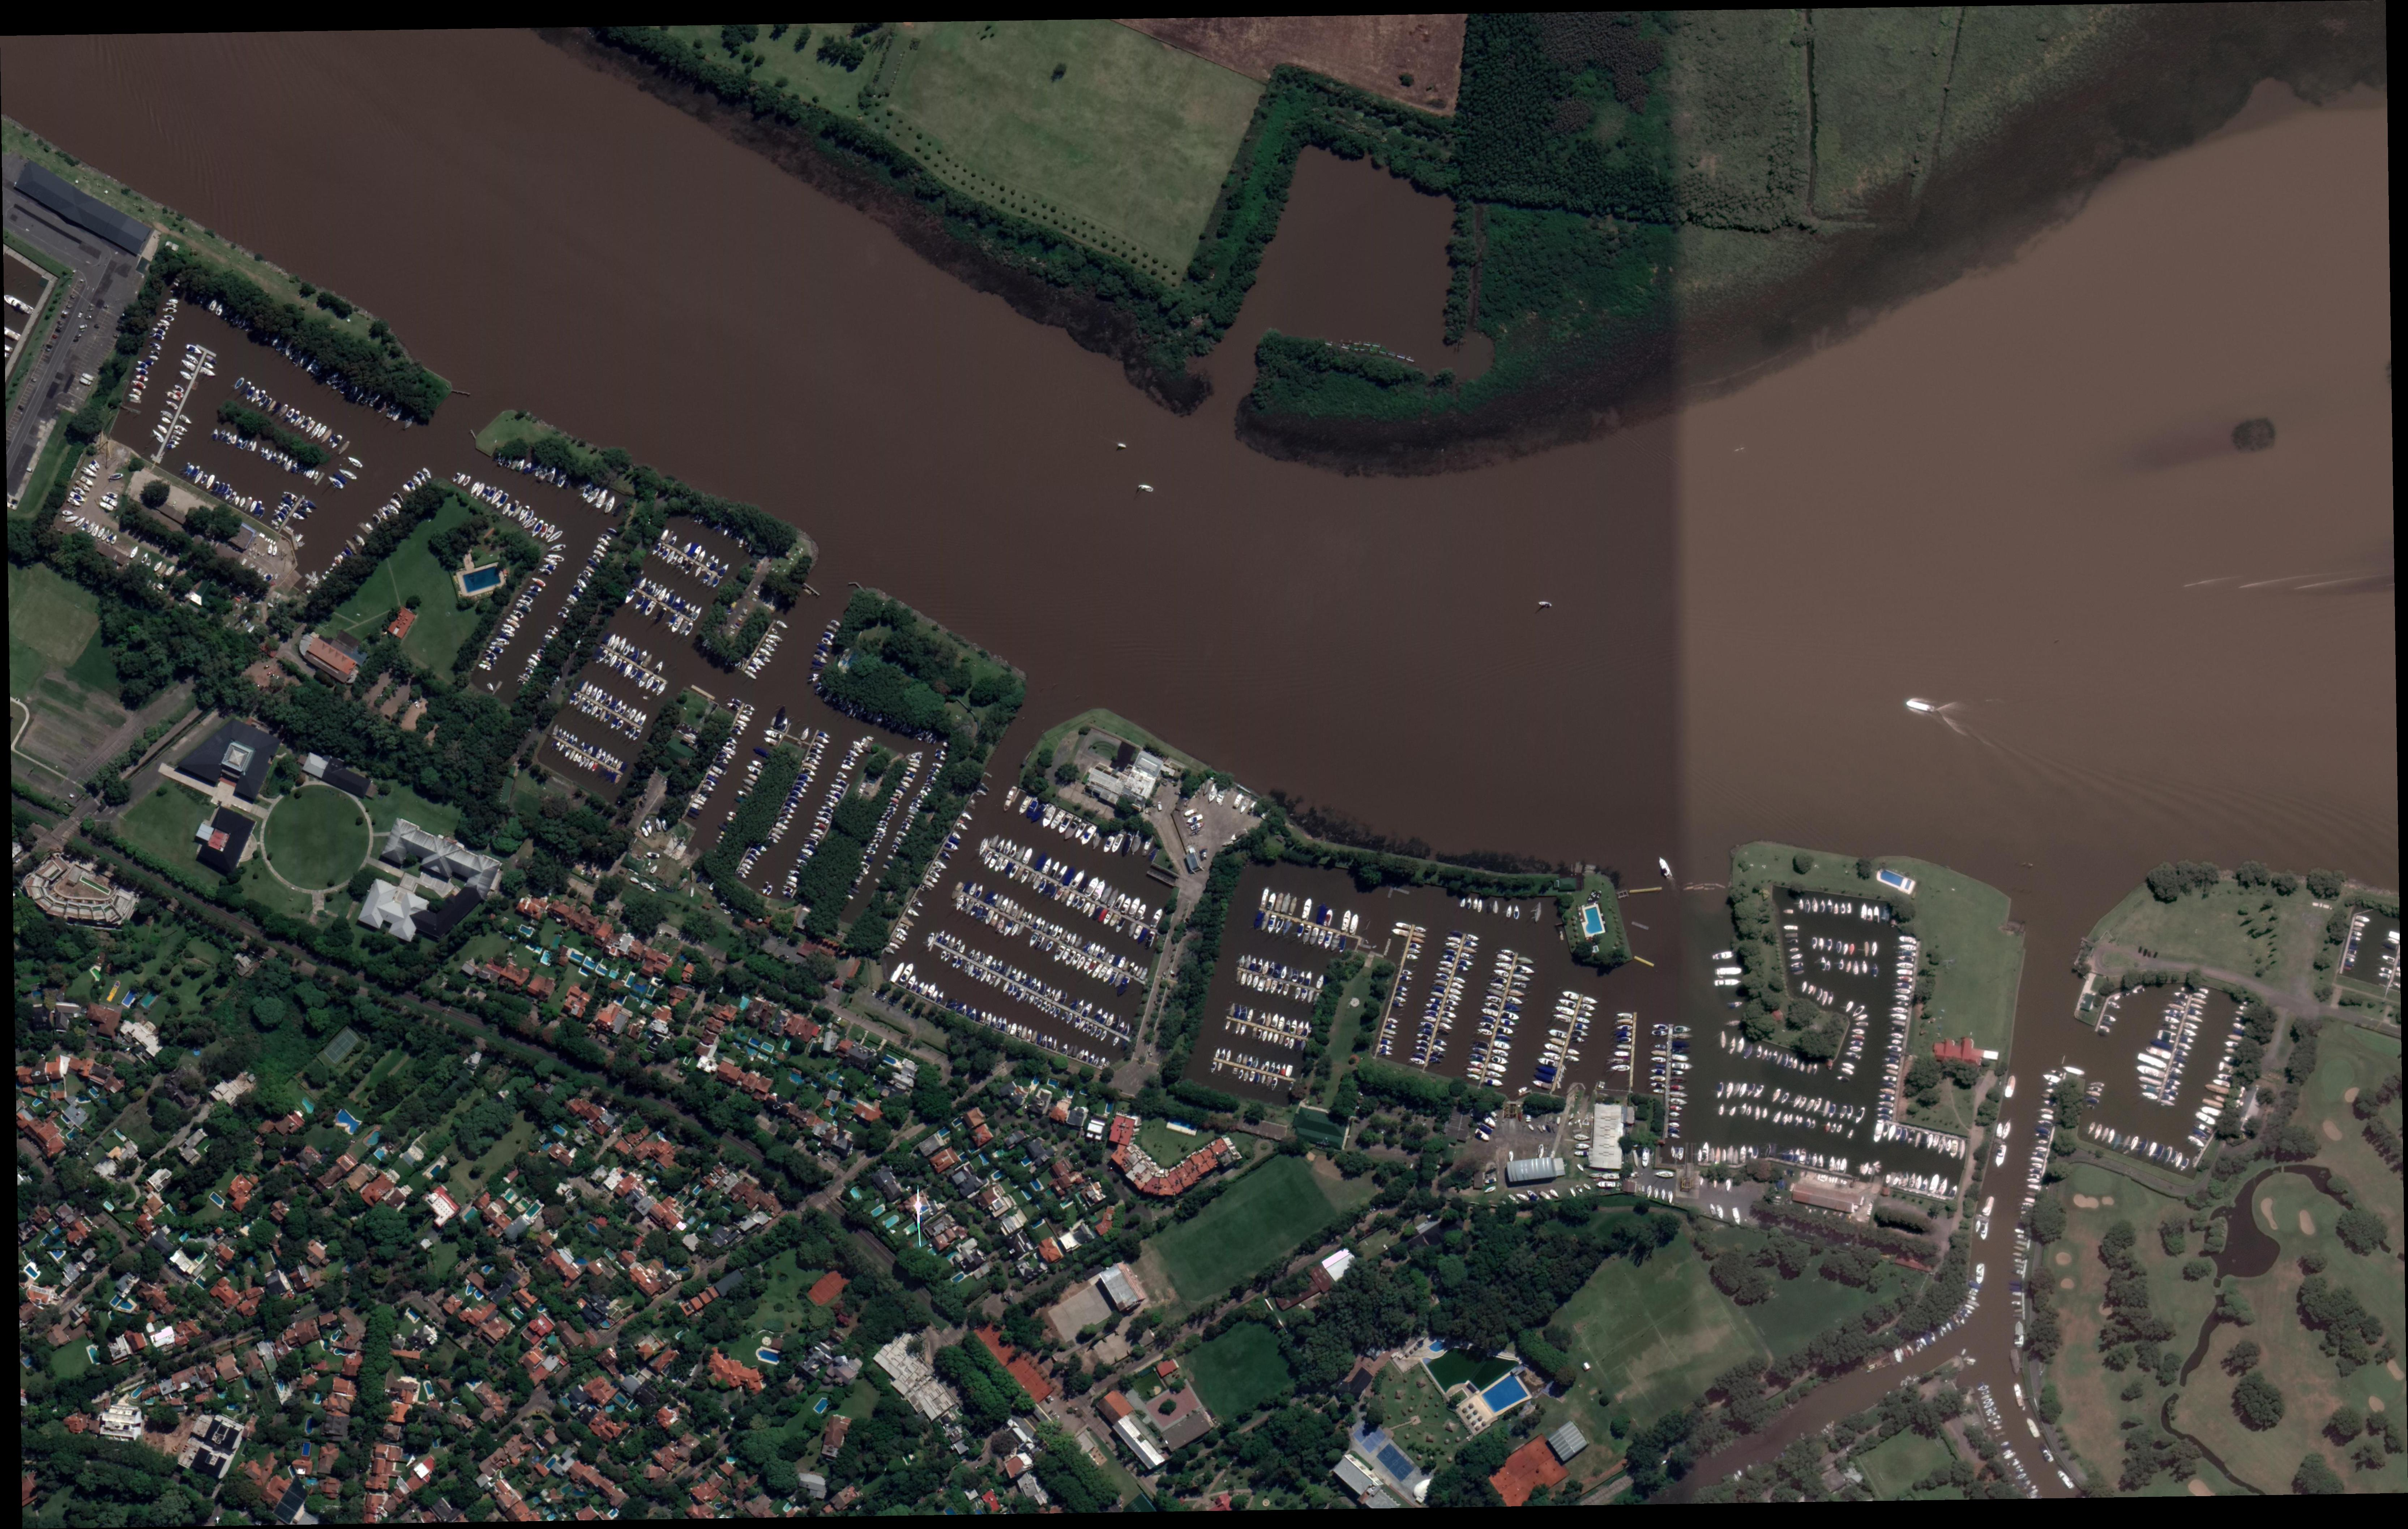harbor: (923, 923, 1143, 1057), (942, 872, 1158, 1008), (971, 827, 1172, 955), (1458, 944, 1539, 1094), (667, 695, 758, 827), (135, 339, 223, 474), (1406, 927, 1483, 1076), (1364, 922, 1430, 1060), (1250, 883, 1371, 958), (1527, 988, 1601, 1099), (563, 674, 653, 746), (590, 627, 677, 699), (648, 521, 734, 592), (621, 571, 706, 641), (542, 721, 630, 788), (1232, 951, 1330, 1009), (1648, 1022, 1694, 1141), (1223, 999, 1315, 1055), (1209, 1046, 1306, 1099), (732, 613, 790, 683), (265, 486, 321, 542), (1601, 1011, 1638, 1092), (483, 676, 505, 699)
ship: (2, 291, 35, 316), (2136, 1050, 2169, 1073), (2134, 1062, 2166, 1080), (1062, 816, 1083, 843), (2203, 1081, 2236, 1097), (1002, 785, 1020, 815), (1028, 802, 1050, 827), (888, 958, 907, 985), (2194, 1109, 2220, 1129), (1083, 872, 1102, 899), (1904, 699, 1936, 714), (2145, 1044, 2173, 1062), (1129, 829, 1146, 857), (1120, 830, 1137, 858), (2055, 1468, 2076, 1490), (2036, 1439, 2055, 1464), (1069, 865, 1088, 890), (1090, 878, 1109, 902), (1041, 804, 1058, 830), (1657, 853, 1674, 879), (772, 702, 788, 730), (2199, 1104, 2227, 1120), (2003, 1073, 2018, 1101), (1994, 1141, 2010, 1169), (305, 356, 326, 377), (591, 486, 611, 509), (1114, 974, 1132, 999), (899, 960, 916, 985), (579, 477, 597, 502), (2159, 1143, 2176, 1167), (2192, 1118, 2217, 1136), (2024, 1415, 2041, 1439), (1016, 793, 1034, 818), (1099, 881, 1116, 906), (1050, 808, 1067, 832), (2201, 1095, 2227, 1111), (2148, 1037, 2175, 1053), (546, 527, 567, 546), (584, 485, 604, 506), (948, 879, 965, 902), (602, 493, 620, 516), (751, 743, 774, 760), (2134, 1136, 2152, 1159), (1982, 1194, 1999, 1217), (1079, 825, 1097, 848), (1057, 813, 1074, 836), (1150, 906, 1165, 930), (609, 499, 628, 518), (651, 606, 669, 627), (2060, 1064, 2087, 1078), (1032, 850, 1050, 871), (1873, 1118, 1887, 1145), (1111, 890, 1129, 911), (976, 836, 992, 858), (337, 467, 360, 483), (309, 420, 325, 442), (1511, 971, 1534, 987), (1025, 797, 1041, 820), (1062, 864, 1078, 887), (1106, 887, 1122, 909), (1127, 895, 1143, 918), (1109, 832, 1125, 855), (2136, 1074, 2164, 1087), (1927, 1171, 1941, 1195), (2001, 1116, 2015, 1141), (2008, 1346, 2020, 1375), (1258, 885, 1272, 909), (1301, 897, 1315, 922), (1315, 901, 1329, 925), (1339, 908, 1353, 932), (1141, 834, 1155, 858), (1536, 1055, 1560, 1069), (1532, 1071, 1557, 1085), (390, 404, 407, 423), (326, 474, 346, 492), (179, 356, 198, 374), (337, 377, 355, 397), (484, 483, 500, 504), (490, 486, 505, 507), (495, 490, 511, 511), (505, 499, 521, 520), (521, 507, 537, 528), (530, 518, 546, 539), (555, 469, 570, 490), (690, 602, 706, 623), (1936, 1174, 1952, 1195), (1515, 962, 1536, 978), (1229, 827, 1250, 843), (1118, 895, 1134, 916), (1134, 901, 1150, 922), (1072, 820, 1088, 841), (2013, 1382, 2025, 1408), (518, 502, 532, 525), (762, 727, 785, 741), (2041, 1071, 2064, 1085), (2152, 1141, 2166, 1164), (1272, 890, 1286, 913), (1279, 892, 1294, 915), (1348, 913, 1362, 936), (1546, 1027, 1569, 1041), (330, 374, 348, 391), (1481, 1113, 1499, 1131), (1000, 920, 1016, 939), (344, 537, 360, 556), (346, 455, 365, 470), (562, 470, 577, 490), (535, 463, 551, 483), (100, 493, 119, 509), (163, 388, 183, 404), (74, 477, 93, 493), (337, 437, 353, 456), (330, 432, 346, 451), (281, 406, 297, 425), (298, 413, 314, 432), (319, 427, 335, 446), (744, 762, 763, 778), (614, 634, 630, 653), (1013, 843, 1028, 862), (1473, 1127, 1492, 1143), (1027, 930, 1041, 951), (1143, 930, 1157, 951), (242, 493, 256, 514), (670, 614, 684, 635), (2190, 1127, 2211, 1141), (1501, 1009, 1522, 1023), (1487, 1060, 1508, 1074), (1483, 1076, 1504, 1090), (1206, 783, 1220, 804), (1215, 785, 1229, 806), (1050, 858, 1064, 879), (1078, 874, 1092, 895), (1102, 834, 1116, 855), (1090, 830, 1104, 851), (1265, 915, 1279, 936), (1251, 909, 1265, 930), (1853, 1104, 1867, 1125), (1543, 1041, 1564, 1055), (1560, 988, 1581, 1002), (1604, 1055, 1632, 1066), (2211, 1078, 2234, 1090), (2138, 1081, 2161, 1094), (1948, 1138, 1960, 1160), (1302, 923, 1315, 946), (1897, 934, 1920, 946), (1536, 1064, 1559, 1076), (1553, 1004, 1576, 1016), (1530, 1078, 1553, 1090), (1090, 962, 1106, 980), (521, 516, 539, 532), (279, 493, 297, 509), (332, 470, 349, 486), (239, 379, 254, 397), (260, 395, 276, 413), (276, 402, 291, 420), (288, 407, 304, 425), (291, 413, 307, 430), (756, 644, 774, 660), (755, 650, 772, 665), (741, 774, 758, 790), (642, 600, 658, 618), (716, 560, 732, 578), (635, 672, 651, 690), (358, 390, 374, 407), (1230, 792, 1246, 809), (1715, 978, 1741, 988), (1064, 950, 1078, 969), (1053, 944, 1067, 964), (1032, 934, 1046, 953), (983, 887, 997, 906), (1074, 953, 1088, 973), (1081, 999, 1095, 1018), (1107, 969, 1122, 988), (1100, 967, 1114, 987), (1136, 927, 1150, 946), (925, 980, 939, 999), (402, 413, 416, 432), (532, 460, 546, 479), (514, 600, 534, 614), (504, 616, 523, 630), (97, 499, 116, 513), (184, 342, 204, 356), (130, 377, 149, 391), (79, 465, 98, 479), (68, 490, 88, 504), (198, 365, 218, 379), (797, 771, 816, 785), (734, 786, 753, 800), (635, 648, 649, 667), (690, 542, 704, 562), (1021, 846, 1036, 865), (2110, 1132, 2124, 1152), (2187, 1134, 2206, 1148), (2231, 1020, 2250, 1034), (2185, 1013, 2204, 1027), (1885, 1123, 1899, 1143), (1506, 994, 1525, 1008), (1502, 1001, 1522, 1015), (1200, 778, 1215, 797), (1322, 908, 1336, 927), (1308, 927, 1322, 946), (1041, 857, 1055, 876), (1055, 864, 1069, 883), (1715, 967, 1745, 976), (546, 463, 558, 485), (2210, 1092, 2231, 1104), (2217, 1071, 2238, 1083), (2222, 1053, 2243, 1066), (1936, 1134, 1948, 1155), (1957, 1138, 1967, 1162), (1899, 1127, 1911, 1148), (1390, 927, 1411, 939), (1487, 980, 1508, 992), (1492, 1039, 1513, 1052), (1490, 1053, 1511, 1066), (1286, 895, 1299, 916), (1322, 930, 1334, 951), (1258, 913, 1271, 934), (1811, 1094, 1824, 1115), (1713, 950, 1738, 960), (1541, 1050, 1562, 1062), (1552, 1011, 1573, 1023), (1557, 997, 1578, 1009), (353, 532, 369, 548), (651, 583, 667, 599), (707, 556, 723, 572), (325, 370, 340, 386), (374, 398, 390, 414), (1852, 1002, 1867, 1018), (1525, 1187, 1541, 1202), (676, 876, 690, 894), (823, 792, 841, 806), (983, 909, 997, 927), (993, 916, 1007, 934), (972, 881, 986, 899), (1085, 958, 1099, 976), (1104, 1011, 1118, 1029), (1097, 964, 1111, 981), (1095, 908, 1109, 925), (1090, 904, 1104, 922), (1030, 874, 1044, 892), (1013, 865, 1027, 883), (986, 853, 1000, 871), (988, 832, 1002, 850), (934, 988, 948, 1006), (944, 839, 962, 853), (521, 458, 535, 476), (595, 535, 613, 549), (530, 574, 548, 588), (154, 562, 168, 579), (183, 351, 200, 365), (70, 485, 88, 499), (65, 495, 82, 509), (151, 427, 165, 444), (177, 413, 195, 427), (212, 300, 226, 318), (269, 400, 283, 418), (304, 418, 318, 435), (316, 423, 330, 441), (762, 734, 779, 748), (753, 841, 770, 855), (800, 765, 818, 779), (806, 755, 823, 769), (749, 757, 767, 771), (814, 646, 832, 660), (813, 651, 830, 665), (670, 593, 684, 611), (684, 600, 699, 618), (665, 613, 679, 630), (637, 597, 651, 614), (641, 651, 655, 669), (686, 541, 700, 558), (704, 553, 718, 571), (597, 648, 611, 665), (620, 662, 634, 679), (2127, 1134, 2141, 1152), (2182, 1027, 2199, 1041), (2015, 1320, 2024, 1348), (298, 351, 312, 369), (346, 384, 360, 402), (367, 391, 381, 409), (1265, 892, 1279, 909), (1741, 1043, 1755, 1060), (1752, 1083, 1766, 1101), (1976, 1262, 1987, 1285), (1532, 901, 1543, 923), (1725, 1143, 1736, 1166), (1739, 1141, 1750, 1164), (1081, 955, 1093, 974), (1113, 971, 1125, 990), (1114, 916, 1127, 936), (993, 855, 1006, 874), (1002, 837, 1014, 857), (205, 472, 218, 492), (300, 499, 319, 511), (544, 521, 556, 541), (548, 542, 567, 555), (253, 499, 265, 518), (2085, 1118, 2097, 1138), (2094, 1122, 2106, 1141), (2146, 1139, 2159, 1159), (2161, 1020, 2180, 1032), (2380, 939, 2399, 951), (291, 348, 304, 367), (1485, 987, 1504, 999), (1490, 974, 1509, 987), (1492, 967, 1511, 980), (1494, 960, 1513, 973), (1495, 951, 1515, 964), (1516, 955, 1536, 967), (1499, 1016, 1518, 1029), (1495, 1032, 1515, 1044), (1185, 813, 1204, 825), (1330, 934, 1343, 953), (1316, 929, 1329, 948), (1281, 918, 1294, 937), (1274, 916, 1286, 936), (1260, 957, 1272, 976), (1843, 1050, 1862, 1062), (1571, 1027, 1590, 1039), (1731, 1208, 1743, 1227), (1731, 1080, 1743, 1099), (962, 878, 976, 894), (1057, 990, 1071, 1006), (1097, 1009, 1111, 1025), (1079, 901, 1093, 916), (390, 490, 405, 504), (414, 469, 428, 485), (479, 485, 493, 500), (283, 490, 298, 504), (298, 502, 314, 516), (272, 507, 288, 521), (584, 555, 600, 569), (576, 571, 591, 585), (511, 607, 527, 621), (179, 369, 195, 383), (160, 407, 176, 421), (74, 514, 88, 530), (79, 474, 95, 488), (277, 453, 291, 469), (232, 376, 246, 391), (254, 388, 269, 404), (256, 393, 270, 409), (265, 398, 279, 414), (721, 743, 737, 757), (716, 753, 732, 767), (713, 758, 728, 772), (742, 667, 758, 681), (762, 641, 778, 655), (751, 655, 767, 669), (655, 586, 669, 602), (677, 620, 692, 635), (658, 527, 672, 542), (591, 646, 606, 662), (627, 665, 641, 681), (655, 683, 669, 699), (1980, 1220, 1990, 1241), (1967, 1278, 1983, 1292), (284, 341, 298, 356), (1474, 1027, 1495, 1037), (814, 813, 832, 825), (816, 809, 834, 822), (828, 781, 846, 793), (964, 899, 976, 916), (993, 892, 1006, 909), (999, 895, 1011, 913), (1018, 969, 1030, 987), (1074, 997, 1086, 1015), (1093, 1006, 1106, 1023), (1111, 1013, 1123, 1030), (1004, 897, 1016, 915), (1065, 892, 1078, 909), (1060, 888, 1072, 906), (1048, 883, 1060, 901), (1037, 878, 1050, 895), (1007, 864, 1020, 881), (981, 850, 993, 867), (995, 836, 1007, 853), (1086, 939, 1099, 957), (906, 973, 918, 990), (935, 927, 948, 944), (793, 857, 811, 869), (377, 506, 390, 523), (219, 481, 232, 499), (469, 479, 481, 497), (474, 481, 486, 499), (193, 469, 205, 486), (537, 565, 555, 578), (500, 621, 518, 634), (498, 627, 516, 639), (493, 635, 511, 648), (105, 528, 118, 546), (226, 488, 239, 506), (147, 330, 165, 342), (133, 365, 151, 377), (283, 456, 295, 474), (207, 297, 219, 314), (244, 384, 256, 402), (249, 388, 262, 406), (716, 748, 734, 760), (778, 714, 790, 732), (802, 760, 820, 772), (790, 788, 807, 800), (746, 771, 763, 783), (814, 641, 832, 653), (814, 734, 832, 746), (683, 621, 695, 639), (634, 593, 646, 611), (625, 588, 637, 606), (653, 658, 665, 676), (606, 632, 618, 650), (663, 528, 676, 546), (697, 546, 709, 564), (649, 678, 662, 695), (604, 692, 616, 709), (579, 678, 591, 695), (2099, 1125, 2111, 1143), (2178, 1155, 2190, 1173), (2031, 1148, 2048, 1160), (242, 318, 254, 335), (2183, 1020, 2201, 1032), (1892, 1346, 1904, 1364), (1246, 799, 1258, 816), (1418, 1018, 1436, 1030), (1437, 958, 1455, 971), (1508, 987, 1525, 999), (1497, 1023, 1515, 1036), (1446, 992, 1464, 1004), (1430, 1043, 1448, 1055), (1471, 1044, 1488, 1057), (1239, 797, 1251, 815), (1295, 1018, 1308, 1036), (1301, 1020, 1313, 1037), (1315, 973, 1327, 990), (1771, 1087, 1783, 1104), (1792, 1092, 1804, 1109), (1745, 1081, 1757, 1099), (1671, 1062, 1695, 1071), (539, 521, 549, 541), (546, 553, 565, 564), (151, 327, 170, 337), (2039, 1092, 2059, 1102), (2036, 1118, 2055, 1129), (2032, 1131, 2052, 1141), (2032, 1125, 2052, 1136), (2164, 1008, 2183, 1018), (2190, 997, 2210, 1008), (2139, 1090, 2159, 1101), (1918, 1131, 1929, 1150), (1885, 1043, 1904, 1053), (1874, 1106, 1894, 1116), (1888, 1011, 1908, 1022), (1890, 1004, 1910, 1015), (1480, 1008, 1499, 1018), (1509, 980, 1529, 990), (1492, 1048, 1511, 1059), (1485, 1069, 1504, 1080), (1481, 1001, 1501, 1011), (1457, 957, 1476, 967), (1467, 1053, 1487, 1064), (1295, 922, 1306, 941), (1272, 960, 1283, 980), (1727, 1036, 1738, 1055), (1822, 1099, 1832, 1118), (1881, 904, 1892, 923), (1897, 953, 1917, 964), (1892, 992, 1911, 1002), (1548, 1036, 1567, 1046), (1581, 995, 1601, 1006), (1725, 1081, 1736, 1101), (1641, 1146, 1650, 1169), (1702, 1139, 1711, 1162), (828, 786, 842, 800), (386, 502, 400, 516), (411, 474, 425, 488), (569, 586, 583, 600), (484, 648, 498, 662), (163, 564, 177, 578), (165, 398, 179, 413), (749, 658, 763, 672), (825, 621, 839, 635), (1255, 808, 1269, 822), (932, 750, 948, 762), (807, 830, 823, 843), (813, 820, 828, 832), (846, 748, 862, 760), (1060, 948, 1072, 964), (1039, 937, 1051, 953), (969, 902, 981, 918), (1013, 967, 1025, 983), (1069, 995, 1081, 1011), (1116, 1018, 1129, 1034), (1014, 904, 1027, 920), (1102, 911, 1114, 927), (1053, 887, 1065, 902), (1043, 881, 1055, 897), (1109, 913, 1122, 929), (1132, 925, 1144, 941), (1032, 915, 1044, 930), (1050, 923, 1062, 939), (1092, 943, 1104, 958), (1097, 944, 1109, 960), (1134, 964, 1146, 980), (895, 927, 911, 939), (890, 936, 906, 948), (914, 980, 927, 995), (900, 916, 916, 929), (934, 860, 950, 872), (921, 878, 937, 890), (946, 934, 958, 950), (388, 497, 404, 509), (421, 465, 434, 481), (511, 504, 523, 520), (190, 463, 202, 479), (183, 463, 195, 479), (179, 460, 191, 476), (576, 576, 588, 592), (520, 592, 535, 604), (497, 630, 512, 642), (84, 520, 97, 535), (90, 523, 102, 539), (95, 525, 107, 541), (100, 527, 112, 542), (128, 544, 140, 560), (153, 558, 165, 574), (135, 358, 151, 370), (133, 372, 149, 384), (233, 435, 246, 451), (274, 449, 286, 465), (174, 423, 190, 435), (763, 637, 779, 650), (793, 783, 809, 795), (779, 809, 795, 822), (774, 820, 790, 832), (799, 725, 811, 741), (665, 592, 677, 607), (676, 597, 688, 613), (681, 600, 693, 616), (630, 646, 642, 662), (625, 644, 637, 660), (621, 641, 634, 657), (642, 578, 655, 593), (525, 657, 541, 669), (681, 539, 693, 555), (706, 572, 718, 588), (683, 560, 695, 576), (651, 541, 663, 556), (579, 699, 591, 714), (576, 697, 588, 713), (609, 714, 621, 730), (627, 725, 639, 741), (613, 657, 625, 672), (632, 669, 644, 685), (644, 676, 656, 692), (1007, 843, 1020, 858), (2120, 1134, 2132, 1150), (2013, 1238, 2029, 1250), (2103, 1013, 2118, 1025), (2108, 999, 2124, 1011), (237, 316, 249, 332), (2180, 1034, 2196, 1046), (1948, 1183, 1960, 1199), (746, 539, 758, 555), (844, 700, 856, 716), (288, 346, 300, 362), (353, 388, 365, 404), (384, 404, 397, 420), (1409, 1055, 1425, 1067), (1501, 946, 1516, 958), (1429, 1055, 1444, 1067), (1276, 1015, 1288, 1030), (1248, 957, 1260, 973), (1843, 999, 1855, 1015), (1804, 1097, 1817, 1113), (1537, 1188, 1553, 1201), (1815, 1153, 1827, 1169), (802, 836, 820, 846), (1071, 951, 1081, 969), (979, 908, 990, 925), (974, 904, 985, 922), (955, 894, 965, 911), (1086, 902, 1097, 920), (1004, 858, 1014, 876), (1127, 922, 1137, 939), (849, 702, 860, 720), (1009, 1020, 1020, 1037), (1020, 1023, 1030, 1041), (799, 846, 816, 857), (211, 477, 221, 495), (293, 509, 311, 520), (527, 585, 544, 595), (488, 644, 505, 655), (476, 662, 493, 672), (107, 472, 125, 483), (126, 391, 144, 402), (767, 634, 785, 644), (2085, 1088, 2103, 1099), (2106, 1127, 2117, 1145), (2038, 1106, 2055, 1116), (2164, 1015, 2182, 1025), (2173, 990, 2190, 1001), (2224, 1039, 2241, 1050), (2175, 1048, 2192, 1059), (2176, 1041, 2194, 1052), (2194, 985, 2211, 995), (1931, 1134, 1941, 1152), (1901, 1169, 1911, 1187), (1908, 1171, 1918, 1188), (1913, 1173, 1924, 1190), (1913, 1131, 1924, 1148), (1885, 1050, 1903, 1060), (1883, 1055, 1901, 1066), (1883, 1067, 1901, 1078), (1878, 1092, 1896, 1102), (1878, 1099, 1896, 1109), (1876, 1113, 1894, 1123), (2234, 1009, 2252, 1020), (1890, 1018, 1908, 1029), (1416, 1027, 1434, 1037), (1432, 978, 1450, 988), (1434, 971, 1451, 981), (1436, 965, 1453, 976), (1485, 994, 1502, 1004), (1478, 1020, 1495, 1030), (1462, 944, 1480, 955), (1441, 1009, 1458, 1020), (1437, 1022, 1455, 1032), (1429, 1050, 1446, 1060), (1466, 1066, 1483, 1076), (1469, 1059, 1487, 1069), (1473, 1039, 1490, 1050), (1188, 822, 1206, 832), (1288, 1016, 1299, 1034), (1267, 960, 1278, 978), (1304, 969, 1315, 987), (1257, 976, 1267, 994), (1736, 1036, 1746, 1053), (1852, 1013, 1869, 1023), (1725, 1018, 1743, 1029), (1827, 1102, 1838, 1120), (1137, 483, 1155, 493), (1580, 1002, 1597, 1013), (1569, 1034, 1587, 1044), (1564, 1053, 1581, 1064), (1611, 1050, 1632, 1059), (1595, 1180, 1616, 1188), (1652, 1022, 1669, 1032), (1713, 1143, 1722, 1164), (1716, 1080, 1725, 1101), (1810, 1150, 1820, 1167), (1839, 1157, 1850, 1174), (1715, 1202, 1725, 1220), (1650, 1048, 1667, 1059), (639, 879, 653, 892), (927, 767, 941, 779), (899, 778, 913, 790), (811, 825, 825, 837), (835, 769, 849, 781), (1007, 967, 1020, 981), (1023, 974, 1036, 988), (1053, 988, 1065, 1002), (1025, 872, 1037, 887), (1023, 911, 1036, 925), (1116, 955, 1129, 969), (993, 958, 1006, 973), (978, 781, 992, 793), (955, 820, 969, 832), (925, 872, 939, 885), (983, 953, 995, 967), (941, 932, 953, 946), (953, 937, 965, 951), (972, 948, 985, 962), (1076, 1046, 1088, 1060), (1097, 1055, 1109, 1069), (405, 479, 418, 493), (402, 483, 414, 497), (276, 504, 290, 516), (497, 453, 509, 467), (504, 455, 516, 469), (483, 655, 497, 667), (172, 383, 186, 395), (170, 388, 184, 400), (156, 421, 168, 435), (711, 764, 725, 776), (528, 651, 542, 664), (783, 804, 797, 816), (786, 872, 800, 885), (818, 729, 832, 741), (813, 739, 827, 751), (637, 576, 649, 590), (662, 590, 674, 604), (632, 574, 644, 588), (665, 551, 677, 565), (602, 711, 614, 725), (602, 651, 614, 665), (607, 655, 620, 669), (637, 713, 649, 727), (634, 709, 646, 723), (618, 702, 630, 716), (226, 309, 239, 323), (1927, 1331, 1939, 1345), (1955, 1311, 1967, 1325), (2003, 1450, 2017, 1462), (276, 339, 288, 353), (693, 872, 707, 885), (855, 706, 867, 720), (1416, 1037, 1430, 1050), (1771, 1109, 1783, 1123), (1548, 1187, 1560, 1201), (2175, 1150, 2183, 1169), (2013, 1227, 2032, 1236), (2166, 1002, 2185, 1011), (2225, 1032, 2245, 1041), (1925, 1132, 1934, 1152), (1339, 936, 1348, 955), (1897, 943, 1917, 951), (1897, 950, 1917, 958), (1896, 962, 1915, 971), (1896, 967, 1915, 976), (1811, 895, 1820, 915), (1601, 1173, 1620, 1181), (1630, 1148, 1639, 1167), (1799, 1146, 1808, 1166), (1673, 1046, 1692, 1055), (1671, 1053, 1690, 1062), (1669, 1097, 1688, 1106), (797, 851, 813, 862), (820, 804, 835, 815), (849, 744, 865, 755), (1044, 939, 1055, 955), (1009, 922, 1020, 937), (960, 897, 971, 913), (969, 881, 979, 897), (1004, 962, 1014, 978), (1122, 1020, 1132, 1036), (1009, 902, 1020, 918), (1076, 897, 1086, 913), (1020, 869, 1030, 885), (999, 858, 1009, 874), (1055, 925, 1065, 941), (1060, 927, 1071, 943), (1069, 930, 1079, 946), (1074, 934, 1085, 950), (1127, 958, 1137, 974), (1139, 965, 1150, 981), (920, 981, 930, 997), (930, 987, 941, 1002), (1014, 988, 1025, 1004), (1000, 980, 1011, 995), (1050, 1036, 1060, 1052), (502, 502, 512, 518), (291, 511, 307, 521), (516, 456, 527, 472), (591, 548, 607, 558), (542, 556, 558, 567), (216, 479, 226, 495), (109, 532, 119, 548), (81, 518, 91, 534), (65, 514, 81, 525), (154, 321, 170, 332), (147, 341, 163, 351), (249, 499, 260, 514), (699, 788, 714, 799), (641, 823, 651, 839), (795, 779, 811, 790), (788, 867, 804, 878), (809, 751, 825, 762), (734, 795, 749, 806), (820, 637, 835, 648), (809, 744, 825, 755), (674, 555, 684, 571), (618, 660, 628, 676), (614, 697, 625, 713), (609, 695, 620, 711), (598, 690, 609, 706), (595, 686, 606, 702), (590, 683, 600, 699), (584, 681, 595, 697), (2050, 1067, 2066, 1078), (2011, 1250, 2027, 1260), (2031, 1155, 2046, 1166), (2097, 1023, 2113, 1034), (221, 305, 232, 321), (232, 312, 242, 328), (2173, 1055, 2189, 1066), (2189, 1008, 2204, 1018), (2189, 1002, 2204, 1013), (1920, 1176, 1931, 1192), (1973, 1218, 1983, 1234), (1906, 1129, 1917, 1145), (1881, 1122, 1892, 1138), (1894, 1127, 1904, 1143), (1860, 1160, 1871, 1176), (1924, 1332, 1934, 1348), (1966, 1299, 1982, 1310), (262, 330, 272, 346), (267, 332, 277, 348), (272, 334, 283, 349), (2238, 1004, 2254, 1015), (909, 725, 920, 741), (1416, 1032, 1432, 1043), (1378, 1048, 1394, 1059), (1411, 1052, 1427, 1062), (1423, 1008, 1439, 1018), (1425, 1002, 1441, 1013), (1446, 934, 1462, 944), (1481, 1015, 1497, 1025), (1464, 939, 1480, 950), (1460, 951, 1476, 962), (1450, 981, 1466, 992), (1444, 997, 1460, 1008), (1434, 1037, 1450, 1048), (1183, 808, 1199, 818), (1239, 1004, 1250, 1020), (1264, 1011, 1274, 1027), (1271, 1013, 1281, 1029), (1227, 1001, 1237, 1016), (1311, 990, 1322, 1006), (1306, 988, 1316, 1004), (1255, 957, 1265, 973), (1279, 964, 1290, 980), (1285, 965, 1295, 981), (1297, 969, 1308, 985), (1269, 980, 1279, 995), (1780, 1052, 1790, 1067), (1797, 1059, 1808, 1074), (1810, 1062, 1820, 1078), (1839, 1066, 1855, 1076), (1850, 1032, 1866, 1043), (1780, 1090, 1790, 1106), (1780, 1111, 1790, 1127), (1797, 1095, 1808, 1111), (1838, 1104, 1848, 1120), (1738, 1083, 1748, 1099), (1578, 1008, 1594, 1018), (1576, 1015, 1592, 1025), (1574, 1022, 1590, 1032), (1567, 1046, 1583, 1057), (1515, 1192, 1530, 1202), (1738, 1101, 1748, 1116), (1745, 1145, 1755, 1160), (1832, 1157, 1843, 1173), (1667, 1092, 1690, 1099), (1000, 1015, 1009, 1032), (927, 930, 935, 948), (161, 305, 179, 314), (644, 850, 662, 858), (2087, 1085, 2104, 1094), (2039, 1113, 2057, 1122), (2192, 992, 2210, 1001), (1996, 1120, 2004, 1138), (1888, 1025, 1906, 1034), (1395, 922, 1413, 930), (1443, 941, 1460, 950), (1244, 951, 1253, 969), (1239, 971, 1248, 988), (1727, 1001, 1745, 1009), (1896, 974, 1913, 983), (1896, 981, 1913, 990), (1615, 1043, 1632, 1052), (1764, 1141, 1773, 1159), (1827, 1155, 1836, 1173), (1650, 1055, 1667, 1064), (1650, 1067, 1667, 1076), (1671, 1076, 1688, 1085), (916, 730, 928, 743), (885, 944, 897, 957), (976, 786, 988, 799), (941, 850, 953, 862), (1058, 1009, 1071, 1022), (1487, 1108, 1499, 1120), (460, 476, 472, 488), (272, 513, 284, 525), (583, 567, 595, 579), (572, 583, 584, 595), (560, 604, 572, 616), (749, 846, 762, 858), (741, 860, 753, 872), (739, 865, 751, 878), (783, 883, 795, 895), (667, 534, 679, 546), (669, 553, 681, 565), (1959, 1308, 1971, 1320), (707, 879, 720, 892), (814, 685, 827, 697), (828, 695, 841, 707), (337, 553, 349, 565), (262, 572, 274, 585), (934, 746, 948, 757), (823, 799, 837, 809), (834, 778, 848, 788), (841, 762, 855, 772), (844, 753, 858, 764), (907, 760, 921, 771), (904, 769, 918, 779), (1014, 925, 1025, 939), (990, 913, 1000, 927), (990, 892, 1000, 906), (1028, 976, 1039, 990), (1034, 978, 1044, 992), (1039, 981, 1050, 995), (1043, 985, 1053, 999), (1071, 895, 1081, 909), (1020, 909, 1030, 923), (1028, 913, 1039, 927), (1043, 920, 1053, 934), (1083, 939, 1093, 953), (907, 908, 921, 918), (897, 922, 911, 932), (893, 932, 907, 943), (888, 941, 902, 951), (909, 978, 920, 992), (950, 997, 960, 1011), (955, 1001, 965, 1015), (969, 1006, 979, 1020), (911, 899, 925, 909), (1014, 1023, 1025, 1037), (911, 795, 925, 806), (907, 804, 921, 815), (906, 808, 920, 818), (948, 836, 962, 846), (942, 844, 957, 855), (928, 869, 942, 879), (1020, 990, 1030, 1004), (1006, 983, 1016, 997), (974, 967, 985, 981), (969, 965, 979, 980), (978, 951, 988, 965), (1060, 1041, 1071, 1055), (1081, 1048, 1092, 1062), (1086, 1052, 1097, 1066), (1099, 1029, 1109, 1043), (1088, 1025, 1099, 1039), (456, 472, 467, 486), (451, 470, 462, 485), (279, 502, 293, 513), (595, 542, 609, 553), (584, 564, 598, 574), (567, 592, 581, 602), (479, 658, 493, 669), (223, 488, 233, 502), (105, 490, 119, 500), (158, 318, 172, 328), (205, 355, 219, 365), (202, 360, 216, 370), (218, 427, 228, 441), (221, 430, 232, 444), (290, 460, 300, 474), (295, 462, 305, 476), (707, 769, 721, 779), (739, 713, 753, 723), (735, 718, 749, 729), (734, 721, 748, 732), (730, 727, 744, 737), (704, 778, 718, 788), (702, 783, 716, 793), (695, 793, 709, 804), (692, 802, 706, 813), (727, 700, 741, 711), (577, 755, 588, 769), (776, 620, 790, 630), (746, 664, 760, 674), (788, 795, 802, 806), (772, 827, 786, 837), (769, 830, 783, 841), (746, 853, 760, 864), (742, 857, 756, 867), (735, 869, 749, 879), (785, 879, 799, 890), (741, 783, 755, 793), (823, 630, 837, 641), (806, 676, 820, 686), (597, 765, 607, 779), (648, 581, 658, 595), (523, 665, 537, 676), (711, 576, 721, 590), (702, 571, 713, 585), (693, 565, 704, 579), (660, 548, 670, 562), (656, 544, 667, 558), (613, 772, 623, 786), (614, 718, 625, 732), (597, 709, 607, 723), (593, 706, 604, 720), (590, 704, 600, 718), (586, 700, 597, 714), (572, 693, 583, 707), (569, 692, 579, 706), (595, 746, 606, 760), (628, 707, 639, 721), (623, 706, 634, 720), (576, 678, 586, 692), (632, 729, 642, 743), (2017, 1232, 2031, 1243), (2025, 1188, 2039, 1199), (2029, 1166, 2043, 1176), (2101, 1018, 2115, 1029), (198, 293, 209, 307), (195, 290, 205, 304), (2162, 1092, 2176, 1102), (2171, 1066, 2185, 1076), (2382, 953, 2396, 964), (1943, 1318, 1953, 1332), (1952, 1315, 1962, 1329), (2380, 965, 2394, 976), (2378, 971, 2392, 981), (2015, 1471, 2029, 1482), (2004, 1457, 2018, 1468), (718, 823, 732, 834), (720, 830, 734, 841), (823, 690, 834, 704), (835, 697, 846, 711), (841, 699, 851, 713), (888, 718, 899, 732), (893, 720, 904, 734), (899, 721, 909, 736), (942, 741, 957, 751), (1381, 1037, 1395, 1048), (1380, 1043, 1394, 1053), (1399, 973, 1413, 983), (1236, 1067, 1246, 1081), (1409, 941, 1423, 951), (1408, 946, 1422, 957), (1450, 987, 1464, 997), (1437, 1027, 1451, 1037), (1223, 1048, 1234, 1062), (1246, 1008, 1257, 1022), (1258, 1011, 1269, 1025), (1769, 1050, 1780, 1064), (1785, 1055, 1795, 1069), (1841, 1060, 1855, 1071), (1873, 904, 1880, 925), (1843, 958, 1853, 973), (1613, 1030, 1634, 1037), (1609, 1064, 1630, 1071), (1483, 1185, 1497, 1195), (1752, 1145, 1762, 1159), (1673, 1032, 1694, 1039), (802, 843, 818, 851), (985, 1011, 993, 1027), (995, 1015, 1004, 1030), (1025, 1027, 1034, 1043), (1071, 1043, 1079, 1059), (542, 564, 558, 572), (518, 599, 534, 607), (490, 641, 505, 650), (258, 506, 267, 521), (785, 800, 800, 809), (776, 816, 792, 825), (762, 879, 770, 895), (811, 658, 827, 667), (613, 635, 621, 651), (591, 743, 600, 758), (2043, 1099, 2059, 1108), (2013, 1245, 2029, 1253), (2025, 1176, 2041, 1185), (174, 277, 190, 286), (2161, 1099, 2176, 1108), (2164, 1088, 2180, 1097), (2166, 1078, 2182, 1087), (2171, 1060, 2187, 1069), (2355, 915, 2371, 923), (1888, 1032, 1904, 1041), (1880, 1087, 1896, 1095), (871, 709, 879, 725), (1429, 990, 1444, 999), (1430, 985, 1446, 994), (1441, 953, 1457, 962), (1443, 948, 1458, 957), (1271, 1076, 1279, 1092), (1413, 925, 1429, 934), (1411, 936, 1427, 944), (1448, 929, 1464, 937), (1466, 934, 1481, 943), (1466, 1073, 1481, 1081), (1234, 1002, 1243, 1018), (1251, 974, 1260, 990), (1264, 978, 1272, 994), (1294, 987, 1302, 1002), (1836, 1074, 1852, 1083), (1820, 990, 1829, 1006), (1841, 941, 1850, 957), (1871, 941, 1880, 957), (1537, 600, 1553, 609), (1476, 897, 1485, 913), (1792, 1146, 1801, 1162), (1881, 1064, 1901, 1071), (1613, 1037, 1632, 1044), (1655, 1171, 1674, 1178), (1648, 1076, 1667, 1083), (628, 876, 641, 887), (862, 853, 874, 864), (925, 732, 935, 744), (921, 730, 932, 743), (893, 786, 906, 797), (927, 772, 939, 783), (1048, 988, 1058, 1001), (1037, 918, 1048, 930), (1046, 923, 1057, 936), (1064, 932, 1074, 944), (1130, 964, 1141, 976), (999, 964, 1009, 976), (988, 958, 999, 971), (904, 816, 916, 827), (900, 818, 913, 829), (962, 811, 974, 822), (951, 830, 964, 841), (958, 943, 969, 955), (1111, 1036, 1122, 1048), (1078, 1018, 1088, 1030), (1069, 1015, 1079, 1027), (198, 474, 209, 486), (246, 623, 256, 635), (565, 597, 577, 607), (556, 609, 569, 620), (507, 613, 520, 623), (160, 416, 172, 427), (142, 358, 154, 369), (132, 386, 144, 397), (91, 458, 102, 470), (239, 439, 249, 451), (265, 449, 276, 462), (304, 465, 314, 477), (328, 432, 339, 444), (548, 623, 560, 634), (727, 736, 739, 746), (725, 741, 737, 751), (693, 797, 706, 808), (690, 806, 702, 816), (744, 702, 756, 713), (730, 697, 742, 707), (563, 746, 574, 758), (781, 888, 793, 899), (727, 809, 739, 820), (649, 864, 660, 876), (830, 618, 842, 628), (609, 772, 620, 785), (521, 671, 534, 681), (516, 678, 528, 688), (614, 758, 625, 771), (606, 755, 616, 767), (577, 739, 588, 751), (174, 281, 186, 291), (1985, 1404, 1997, 1415), (1992, 1422, 2004, 1432), (1936, 1325, 1946, 1338), (1983, 1399, 1996, 1410), (1982, 1396, 1994, 1406), (2022, 1478, 2032, 1490), (2027, 1487, 2039, 1497), (2001, 1446, 2013, 1457), (858, 865, 871, 876), (718, 834, 730, 844), (865, 709, 876, 721), (344, 546, 355, 558), (333, 556, 344, 569), (330, 562, 340, 574), (1246, 1055, 1257, 1067), (1241, 1053, 1251, 1066), (1464, 897, 1474, 909), (1574, 1183, 1585, 1195), (1574, 1162, 1587, 1173), (1727, 1104, 1738, 1116), (895, 785, 909, 793), (842, 758, 856, 767), (911, 750, 925, 758), (907, 757, 921, 765), (906, 765, 920, 774), (920, 785, 934, 793), (960, 1002, 969, 1016), (965, 1004, 974, 1018), (979, 1009, 988, 1023), (990, 1013, 999, 1027), (895, 830, 909, 839), (876, 713, 885, 727), (1011, 983, 1020, 997), (988, 974, 997, 988), (979, 969, 988, 983), (967, 964, 976, 978), (964, 960, 972, 974), (955, 957, 964, 971), (1041, 999, 1050, 1013), (1030, 1029, 1039, 1043), (1041, 1034, 1050, 1048), (1074, 1016, 1083, 1030), (1053, 1006, 1062, 1020), (495, 449, 504, 463), (606, 527, 620, 535), (600, 534, 614, 542), (792, 864, 806, 872), (140, 551, 149, 565), (165, 300, 179, 309), (161, 314, 176, 323), (230, 432, 239, 446), (251, 439, 260, 453), (262, 446, 270, 460), (239, 495, 247, 509), (172, 428, 186, 437), (644, 820, 653, 834), (697, 513, 706, 527), (765, 883, 774, 897), (518, 674, 532, 683), (604, 751, 613, 765), (551, 721, 560, 736), (625, 723, 634, 737), (2083, 1097, 2101, 1104), (2169, 1150, 2178, 1164), (2020, 1201, 2034, 1210), (2024, 1195, 2038, 1204), (2027, 1183, 2041, 1192), (2027, 1173, 2041, 1181), (2173, 999, 2187, 1008), (2168, 1071, 2182, 1080), (1945, 1138, 1953, 1152), (2350, 930, 2364, 939), (1880, 1081, 1897, 1088), (1987, 1415, 2001, 1424), (1990, 1418, 2004, 1427), (1903, 1345, 1911, 1359), (1906, 1343, 1915, 1357), (1913, 1339, 1922, 1353), (1939, 1320, 1948, 1334), (1976, 1383, 1990, 1392), (1980, 1394, 1994, 1403), (2234, 1016, 2248, 1025), (2241, 1001, 2255, 1009), (906, 723, 914, 737), (1746, 1464, 1755, 1478), (1387, 1016, 1401, 1025), (1385, 1022, 1399, 1030), (1383, 1027, 1397, 1036), (1381, 1032, 1395, 1041), (1415, 1044, 1429, 1053), (1429, 997, 1443, 1006), (1394, 995, 1408, 1004), (1269, 1060, 1278, 1074), (1279, 1062, 1288, 1076), (1285, 1064, 1294, 1078), (1265, 1074, 1274, 1088), (1248, 1071, 1257, 1085), (1243, 1069, 1251, 1083), (1211, 1060, 1220, 1074), (1413, 930, 1427, 939), (1406, 953, 1420, 962), (1457, 964, 1471, 973), (1453, 976, 1467, 985), (1443, 1004, 1457, 1013), (1441, 1016, 1455, 1025), (1283, 1018, 1292, 1032), (1299, 1039, 1308, 1053), (1294, 1039, 1302, 1053), (1255, 1027, 1264, 1041), (1250, 1025, 1258, 1039), (1239, 1023, 1248, 1037), (1234, 1022, 1243, 1036), (1218, 1046, 1227, 1060), (1292, 969, 1301, 983), (1234, 969, 1243, 983), (1276, 981, 1285, 995), (1283, 983, 1292, 997), (1301, 988, 1309, 1002), (1806, 1060, 1815, 1074), (1760, 1048, 1769, 1062), (1776, 1052, 1785, 1066), (1827, 992, 1836, 1006), (1753, 1104, 1760, 1122), (1760, 1106, 1769, 1120), (1824, 1120, 1832, 1134), (1815, 988, 1824, 1002), (1860, 902, 1867, 920), (1790, 960, 1804, 969), (1788, 953, 1802, 962), (1460, 895, 1469, 909), (1616, 1013, 1634, 1020), (1616, 1018, 1634, 1025), (1652, 1029, 1669, 1036), (1537, 1143, 1544, 1160), (1574, 1134, 1592, 1141), (1574, 1143, 1592, 1150), (1573, 1150, 1590, 1157), (1708, 1146, 1715, 1164), (1732, 1148, 1739, 1166), (1716, 1102, 1725, 1116), (1804, 1152, 1813, 1166), (1674, 1025, 1692, 1032), (1673, 1041, 1690, 1048), (1669, 1085, 1687, 1092), (1669, 1104, 1683, 1113), (860, 860, 871, 871), (853, 739, 864, 750), (992, 978, 1002, 988), (942, 951, 953, 962), (967, 948, 978, 958), (1092, 1055, 1102, 1066), (365, 521, 376, 532), (270, 518, 281, 528), (591, 553, 602, 564), (525, 590, 541, 597), (88, 462, 98, 472), (307, 469, 318, 479), (655, 816, 662, 832), (662, 816, 669, 832), (809, 664, 825, 671), (2164, 1083, 2180, 1090), (2027, 1483, 2038, 1494), (228, 579, 239, 590), (340, 551, 351, 562), (1422, 1015, 1437, 1022), (1896, 1001, 1911, 1008), (1846, 1104, 1853, 1120), (1818, 937, 1825, 953), (1820, 955, 1827, 971), (1871, 962, 1878, 978), (1513, 904, 1520, 920), (1720, 1148, 1727, 1164), (1650, 1081, 1666, 1088), (1678, 1146, 1685, 1162), (892, 792, 904, 800), (888, 795, 900, 804), (888, 800, 900, 809), (849, 887, 862, 895), (930, 734, 939, 746), (932, 762, 944, 771), (923, 781, 935, 790), (918, 788, 930, 797), (1102, 950, 1111, 962), (1107, 953, 1116, 965), (921, 883, 934, 892), (1028, 994, 1037, 1006), (939, 950, 948, 962), (1044, 1002, 1053, 1015), (1046, 1036, 1055, 1048), (1067, 1044, 1076, 1057), (1120, 1039, 1129, 1052), (1095, 1027, 1104, 1039), (1065, 1013, 1074, 1025), (1048, 1004, 1057, 1016), (270, 544, 279, 556), (149, 348, 161, 356), (225, 434, 233, 446), (300, 465, 309, 477), (170, 434, 183, 442), (168, 439, 181, 448), (741, 707, 753, 716), (769, 714, 778, 727), (586, 758, 595, 771), (583, 757, 591, 769), (569, 750, 577, 762), (560, 744, 569, 757), (714, 521, 723, 534), (734, 657, 742, 669), (767, 836, 779, 844), (725, 815, 737, 823), (591, 762, 600, 774), (681, 558, 690, 571), (620, 762, 628, 774), (611, 757, 620, 769), (586, 744, 595, 757), (583, 743, 591, 755), (2085, 1102, 2097, 1111), (2013, 1257, 2025, 1266), (2354, 920, 2366, 929), (2387, 937, 2399, 946), (1964, 1303, 1976, 1311), (2345, 951, 2357, 960), (2013, 1468, 2025, 1476), (716, 839, 728, 848), (2113, 994, 2125, 1002), (727, 527, 735, 539), (734, 530, 742, 542), (737, 535, 746, 548), (1392, 1001, 1404, 1009), (1395, 990, 1408, 999), (1397, 985, 1409, 994), (1251, 1057, 1260, 1069), (1222, 839, 1234, 848), (1288, 1037, 1297, 1050), (1283, 1036, 1292, 1048), (1278, 1034, 1286, 1046), (1272, 1032, 1281, 1044), (1260, 1030, 1269, 1043), (1223, 1020, 1232, 1032), (1246, 974, 1255, 987), (1766, 1050, 1774, 1062), (1790, 1057, 1799, 1069), (1485, 1176, 1497, 1185), (1745, 1104, 1753, 1116), (1829, 1122, 1838, 1134), (1806, 983, 1815, 995), (874, 827, 888, 834), (902, 776, 916, 783), (1123, 958, 1130, 973), (974, 1009, 981, 1023), (930, 865, 944, 872), (951, 953, 958, 967), (1083, 1020, 1090, 1034), (60, 509, 74, 516), (147, 355, 161, 362), (247, 439, 254, 453), (233, 493, 240, 507), (212, 427, 219, 441), (2010, 1285, 2024, 1292), (2008, 1280, 2022, 1287), (2010, 1267, 2024, 1274), (2029, 1162, 2043, 1169), (2034, 1146, 2048, 1153), (2034, 1138, 2048, 1145), (2180, 987, 2194, 994), (1401, 969, 1415, 976), (1239, 953, 1246, 967), (1850, 1039, 1864, 1046), (1852, 1029, 1866, 1036), (1794, 1113, 1801, 1127), (1827, 937, 1834, 951), (1836, 941, 1843, 955), (1848, 943, 1855, 957), (1838, 957, 1845, 971), (1866, 908, 1873, 922), (1801, 980, 1808, 994), (1785, 932, 1799, 939), (1506, 904, 1513, 918), (1492, 901, 1499, 915), (1473, 897, 1480, 911), (1797, 897, 1804, 911), (1804, 899, 1811, 913), (1818, 899, 1825, 913), (1646, 1185, 1653, 1199), (1653, 1187, 1660, 1201), (1653, 1043, 1667, 1050), (1709, 1202, 1716, 1217), (1787, 1148, 1794, 1162), (1671, 1069, 1685, 1076), (1667, 1132, 1681, 1139), (1667, 1127, 1681, 1134), (883, 811, 893, 820), (878, 822, 888, 830), (932, 765, 942, 774), (240, 556, 249, 567), (916, 792, 927, 800), (906, 813, 916, 822), (985, 973, 993, 983), (1086, 1023, 1095, 1034), (284, 525, 295, 534), (486, 681, 495, 692), (576, 753, 584, 764), (572, 751, 581, 762), (737, 660, 746, 671), (570, 736, 579, 746), (567, 734, 576, 744), (556, 727, 565, 737), (2013, 1262, 2024, 1271), (1967, 1289, 1978, 1297), (1892, 1176, 1901, 1187), (1969, 1285, 1980, 1294), (1915, 1338, 1924, 1348), (1996, 1431, 2006, 1439), (1536, 1123, 1544, 1134), (1771, 1455, 1780, 1466), (742, 537, 751, 548), (753, 590, 763, 599), (813, 681, 823, 690), (319, 574, 330, 583), (325, 569, 333, 579), (1274, 1064, 1283, 1074), (1518, 1085, 1529, 1094), (1236, 1053, 1244, 1064), (1720, 1030, 1725, 1048), (1787, 1113, 1795, 1123), (1836, 1123, 1845, 1134), (1846, 1129, 1855, 1139), (1864, 941, 1869, 958), (1853, 958, 1859, 976), (1894, 988, 1911, 994), (1616, 1025, 1634, 1030), (1508, 1194, 1518, 1202), (1569, 1187, 1578, 1197), (1583, 1181, 1592, 1192), (885, 809, 897, 816), (865, 850, 878, 857), (925, 778, 937, 785), (1037, 1032, 1044, 1044), (267, 542, 274, 555), (270, 451, 277, 463), (312, 469, 319, 481), (546, 628, 558, 635), (807, 672, 820, 679), (600, 750, 607, 762), (1966, 1294, 1978, 1301), (2132, 987, 2145, 994), (2218, 1060, 2225, 1073), (2352, 925, 2364, 932), (1885, 1173, 1892, 1185), (1920, 1336, 1927, 1348), (1962, 1308, 1974, 1315), (2347, 948, 2359, 955), (2018, 1218, 2031, 1225), (732, 528, 739, 541), (916, 727, 923, 739), (1264, 1060, 1271, 1073), (1267, 1030, 1274, 1043), (1215, 1046, 1222, 1059), (1810, 1118, 1817, 1131), (1811, 985, 1818, 997), (1825, 958, 1832, 971), (1792, 969, 1804, 976), (1787, 937, 1799, 944), (1832, 902, 1839, 915), (1669, 1111, 1681, 1118), (1669, 1116, 1681, 1123), (1669, 1122, 1681, 1129), (2089, 1081, 2104, 1087), (1881, 1076, 1897, 1081), (1848, 1046, 1864, 1052), (1853, 1022, 1869, 1027), (1862, 958, 1867, 974), (1783, 925, 1799, 930), (1827, 897, 1832, 913), (1667, 1190, 1673, 1206), (1725, 1178, 1731, 1194), (649, 885, 658, 894), (297, 534, 305, 542), (244, 620, 253, 628), (770, 627, 779, 635), (560, 730, 569, 739), (1873, 1159, 1881, 1167), (2015, 1462, 2024, 1471), (2011, 1459, 2020, 1468), (1883, 1390, 1892, 1399), (267, 600, 276, 609), (328, 567, 337, 576), (1527, 1123, 1536, 1132), (690, 885, 695, 899), (869, 843, 879, 850), (881, 815, 892, 822), (876, 830, 886, 837), (860, 736, 867, 746), (1006, 1023, 1013, 1034), (911, 802, 921, 809), (900, 825, 911, 832), (892, 844, 902, 851), (1037, 999, 1044, 1009), (1034, 995, 1041, 1006), (168, 298, 179, 305), (167, 442, 177, 449), (544, 634, 555, 641), (558, 743, 565, 753), (555, 741, 562, 751), (723, 527, 730, 537), (693, 513, 700, 523), (563, 732, 570, 743), (2011, 1299, 2022, 1306), (168, 290, 183, 295), (2350, 936, 2361, 943), (1888, 1039, 1903, 1044), (2348, 943, 2359, 950), (1960, 1346, 1967, 1357), (1899, 1346, 1906, 1357), (2345, 957, 2355, 964), (2345, 960, 2355, 967), (2343, 964, 2354, 971), (1999, 1439, 2010, 1446), (844, 895, 855, 902), (1788, 1183, 1795, 1194), (1550, 1150, 1557, 1160), (2020, 1206, 2034, 1211), (149, 581, 156, 592), (1288, 1081, 1295, 1092), (1260, 1074, 1267, 1085), (1216, 1062, 1223, 1073), (1757, 1044, 1762, 1059), (1846, 901, 1852, 915), (1841, 901, 1846, 915), (1788, 946, 1799, 953), (1116, 442, 1127, 449), (1588, 1173, 1602, 1178), (1660, 1188, 1666, 1202), (1697, 1176, 1704, 1187), (1697, 1148, 1702, 1162), (1652, 1088, 1666, 1094), (1671, 1145, 1676, 1159), (886, 806, 899, 811), (878, 820, 890, 825), (867, 846, 879, 851), (911, 755, 923, 760), (2010, 1292, 2022, 1297), (1627, 1173, 1639, 1178), (2020, 1215, 2032, 1220), (1255, 1073, 1260, 1085), (1509, 1150, 1515, 1162), (1806, 1116, 1811, 1129), (1811, 937, 1817, 950), (1781, 909, 1794, 915), (1655, 1064, 1667, 1069), (158, 583, 167, 590), (2350, 939, 2359, 946), (1967, 1355, 1976, 1362), (1982, 1389, 1990, 1396), (867, 736, 876, 743), (1857, 1217, 1866, 1224), (1544, 1125, 1552, 1134), (1781, 1452, 1788, 1461), (233, 595, 242, 602), (237, 592, 246, 599), (256, 567, 263, 576), (146, 579, 153, 588), (1799, 1432, 1806, 1441), (1797, 1115, 1804, 1123), (874, 834, 885, 839), (872, 839, 883, 844), (260, 446, 265, 456), (2013, 1308, 2024, 1313), (2013, 1313, 2024, 1318), (1966, 1360, 1976, 1366), (1987, 1411, 1997, 1417), (1557, 1115, 1562, 1125), (1822, 1210, 1829, 1217), (1831, 1210, 1838, 1217), (1799, 1171, 1806, 1178), (1822, 1427, 1829, 1434), (156, 585, 165, 590), (1831, 1176, 1836, 1185), (1834, 1176, 1839, 1185), (1867, 1166, 1873, 1174), (1757, 1461, 1762, 1469), (1546, 1148, 1552, 1157), (274, 572, 279, 581), (2020, 1211, 2032, 1215), (1713, 1176, 1716, 1188), (1838, 1211, 1843, 1218), (1774, 1187, 1780, 1194), (1817, 1174, 1822, 1181), (1774, 1199, 1781, 1204), (1578, 1122, 1583, 1129), (237, 604, 242, 611), (256, 611, 262, 618), (1825, 1424, 1831, 1431), (1831, 1420, 1836, 1427), (1908, 1375, 1913, 1382), (1913, 1376, 1920, 1382), (270, 597, 276, 604), (226, 621, 232, 628), (242, 606, 247, 613), (1260, 1064, 1265, 1071), (1518, 1113, 1522, 1122), (1829, 1176, 1832, 1185), (1901, 1380, 1904, 1389), (1820, 1178, 1825, 1183), (1808, 1210, 1813, 1215), (1824, 1174, 1827, 1181), (1774, 1202, 1781, 1206), (1525, 1116, 1532, 1120), (254, 602, 262, 606), (1904, 1380, 1908, 1387), (1616, 1181, 1620, 1188), (1843, 1180, 1846, 1185), (1845, 1181, 1848, 1187), (1820, 1174, 1824, 1180), (1825, 1176, 1829, 1181), (1527, 1115, 1532, 1118), (1841, 1180, 1845, 1185), (1774, 1197, 1781, 1199), (1525, 1120, 1532, 1122)
